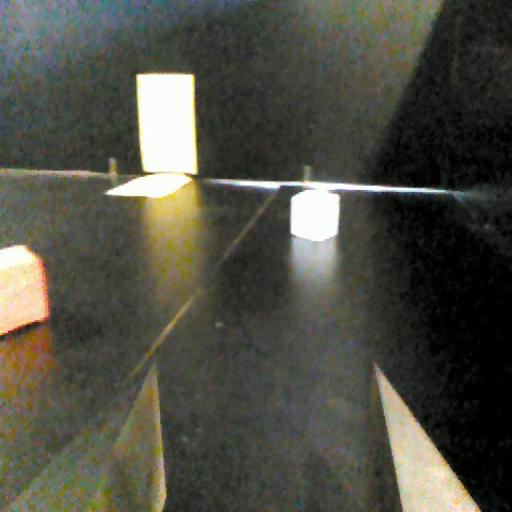cube: (0, 242, 50, 338), (288, 184, 341, 244)
